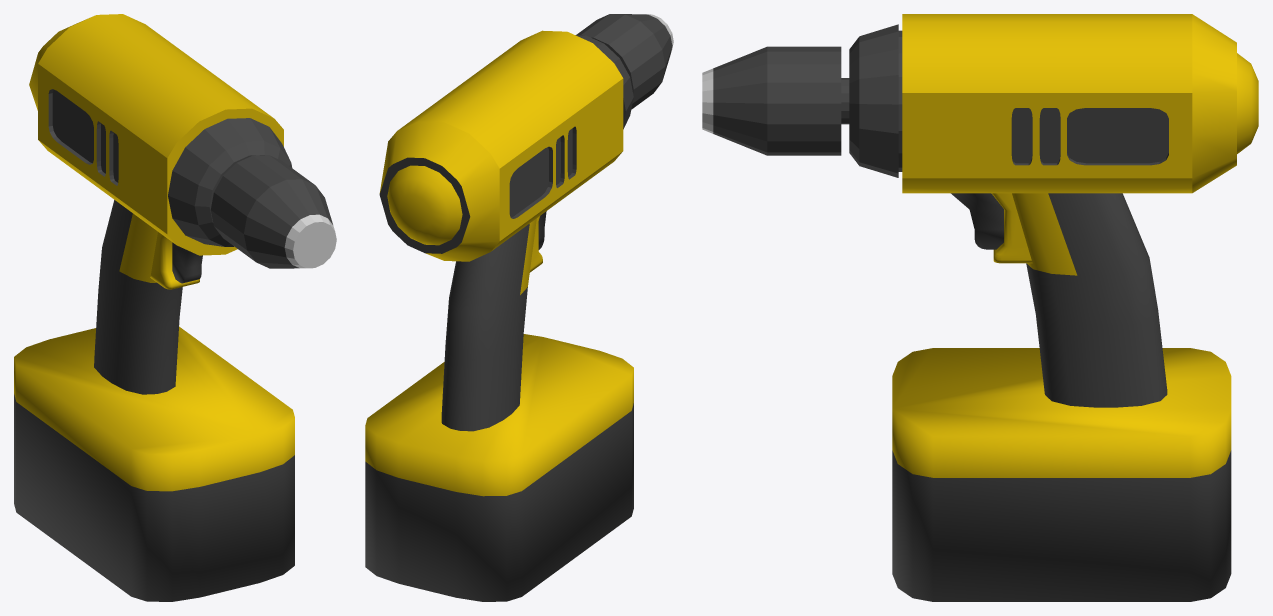
The model's file is Drill.fbx.
3 renders of one model, left to right at view 1: azimuth 30°, elevation 25°; view 2: azimuth 150°, elevation 25°; view 3: azimuth 270°, elevation 25°, orthographic. The views are drawn at different scales.
Visible parts, largest first — view 1: Body, Top_Front, Trigger_Main; view 2: Body, Top_Front; view 3: Body, Top_Front, Trigger_Main.
Boxes of the visible parts, x1,y1,x2,y2 form: Body: (14, 14, 294, 601); Top_Front: (168, 118, 336, 268); Trigger_Main: (172, 242, 202, 283); Body: (365, 30, 633, 601); Top_Front: (575, 14, 673, 129); Body: (892, 14, 1258, 601); Top_Front: (702, 24, 902, 177); Trigger_Main: (951, 193, 1003, 249).
Size of the model in its own units: 0.3451 by 0.9739 by 0.9176.
